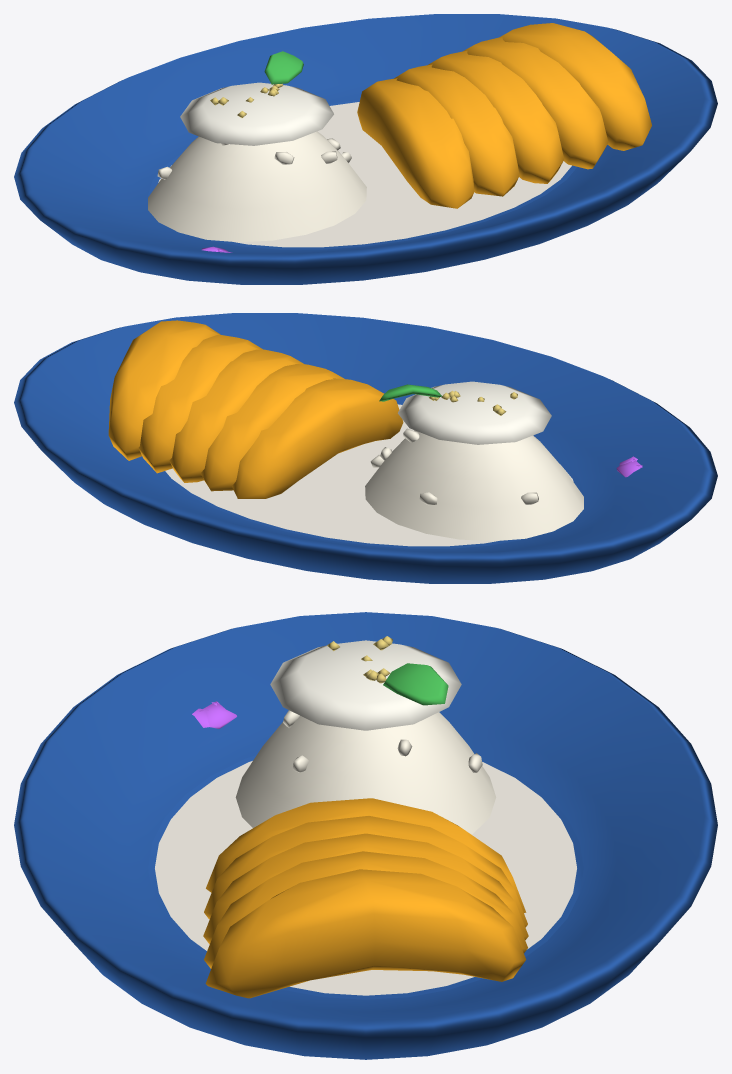
The picture shows the model from 3 angles, top to bottom: view 1: azimuth 30°, elevation 25°; view 2: azimuth 150°, elevation 25°; view 3: azimuth 270°, elevation 25°; orthographic projection. The views are drawn at different scales.
Parts seen in each view (by area): view 1: plate, mango, rice, plate_well, coconut_cream, mint, rice_grains; view 2: plate, mango, rice, plate_well, coconut_cream, rice_grains, mint; view 3: plate, mango, plate_well, rice, coconut_cream, mint, rice_grains, orchid.
Boxes of the visible parts, <box> form: plate: <box>14,14,717,284</box>; mango: <box>357,23,651,208</box>; rice: <box>148,131,366,242</box>; plate_well: <box>158,102,571,247</box>; coconut_cream: <box>180,82,333,145</box>; mint: <box>264,51,303,84</box>; rice_grains: <box>157,138,351,179</box>; plate: <box>14,313,717,583</box>; mango: <box>108,320,403,498</box>; rice: <box>365,430,583,541</box>; plate_well: <box>165,404,573,546</box>; coconut_cream: <box>398,381,551,444</box>; rice_grains: <box>370,428,538,505</box>; mint: <box>379,384,442,401</box>; plate: <box>14,612,717,1059</box>; mango: <box>203,798,528,998</box>; plate_well: <box>155,761,576,995</box>; rice: <box>235,712,496,834</box>; coconut_cream: <box>270,640,461,730</box>; mint: <box>383,663,448,705</box>; rice_grains: <box>283,710,482,772</box>; orchid: <box>192,701,236,728</box>.
Size of the model in its own units: 0.21 by 0.0445 by 0.147.
